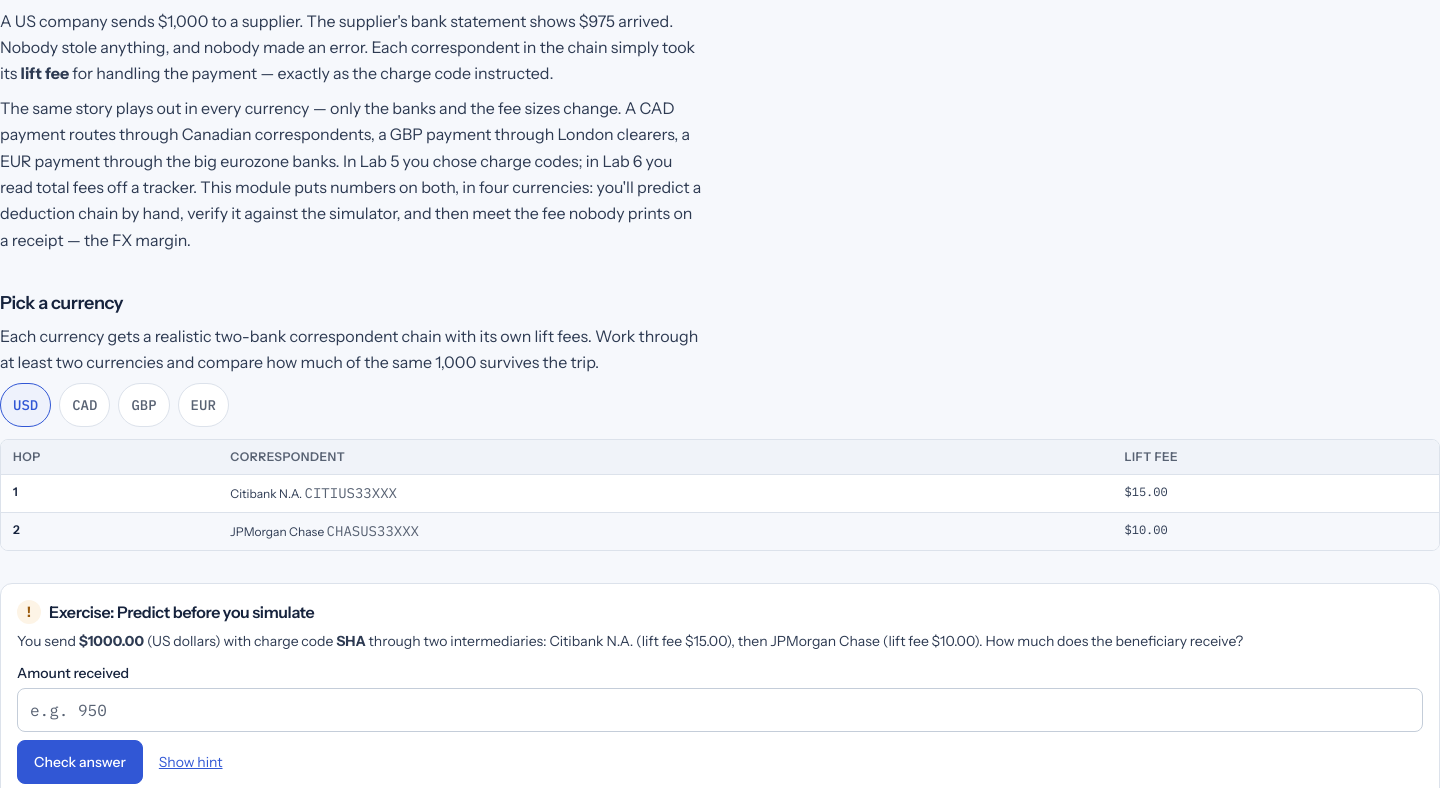
Scenario: FeesFxContent › rejects the USD answer once the currency is GBP
Click the button "GBP": [144, 406] box [118,384,170,428]
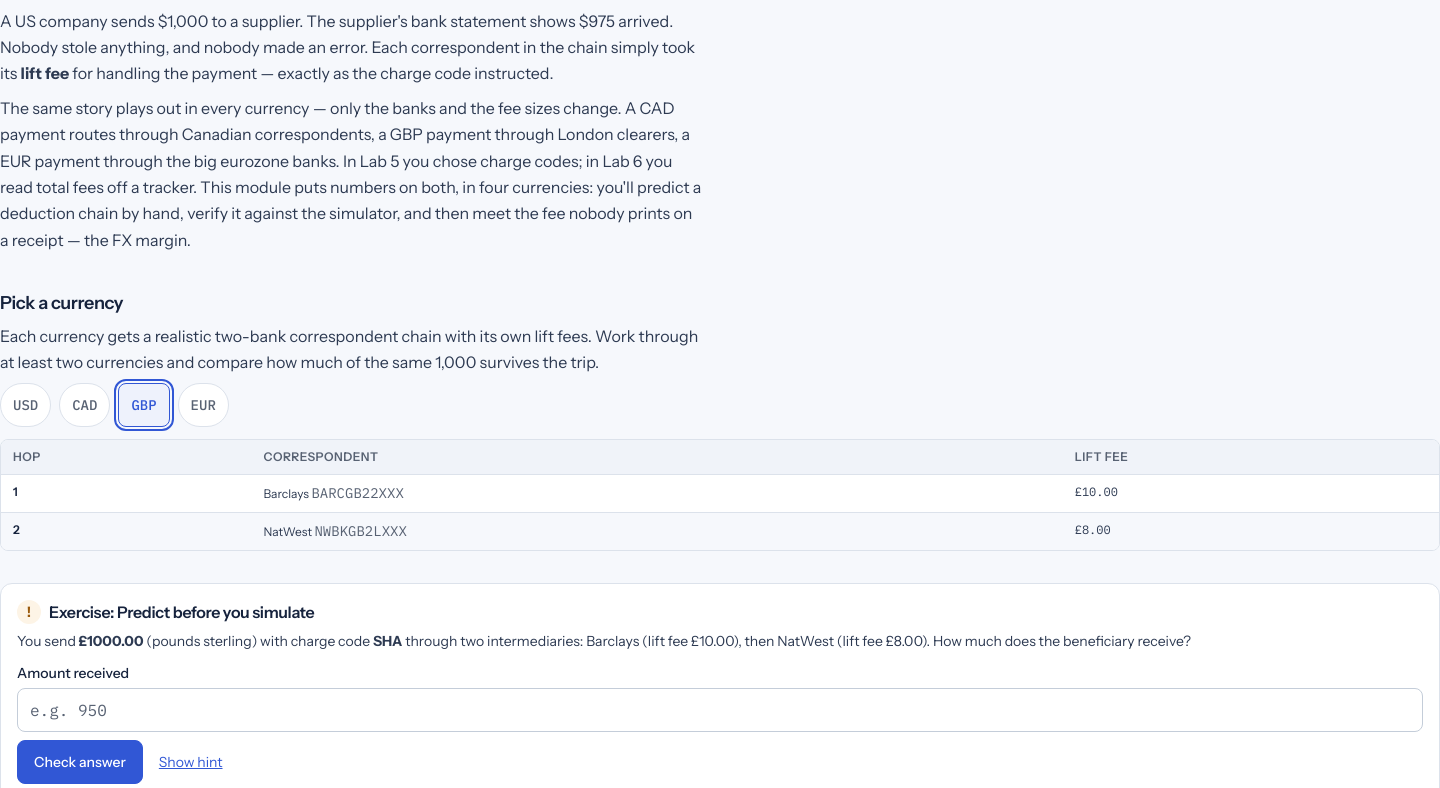
In the field labelled "Amount received": [720, 710] box [17,688,1423,732], type "975"
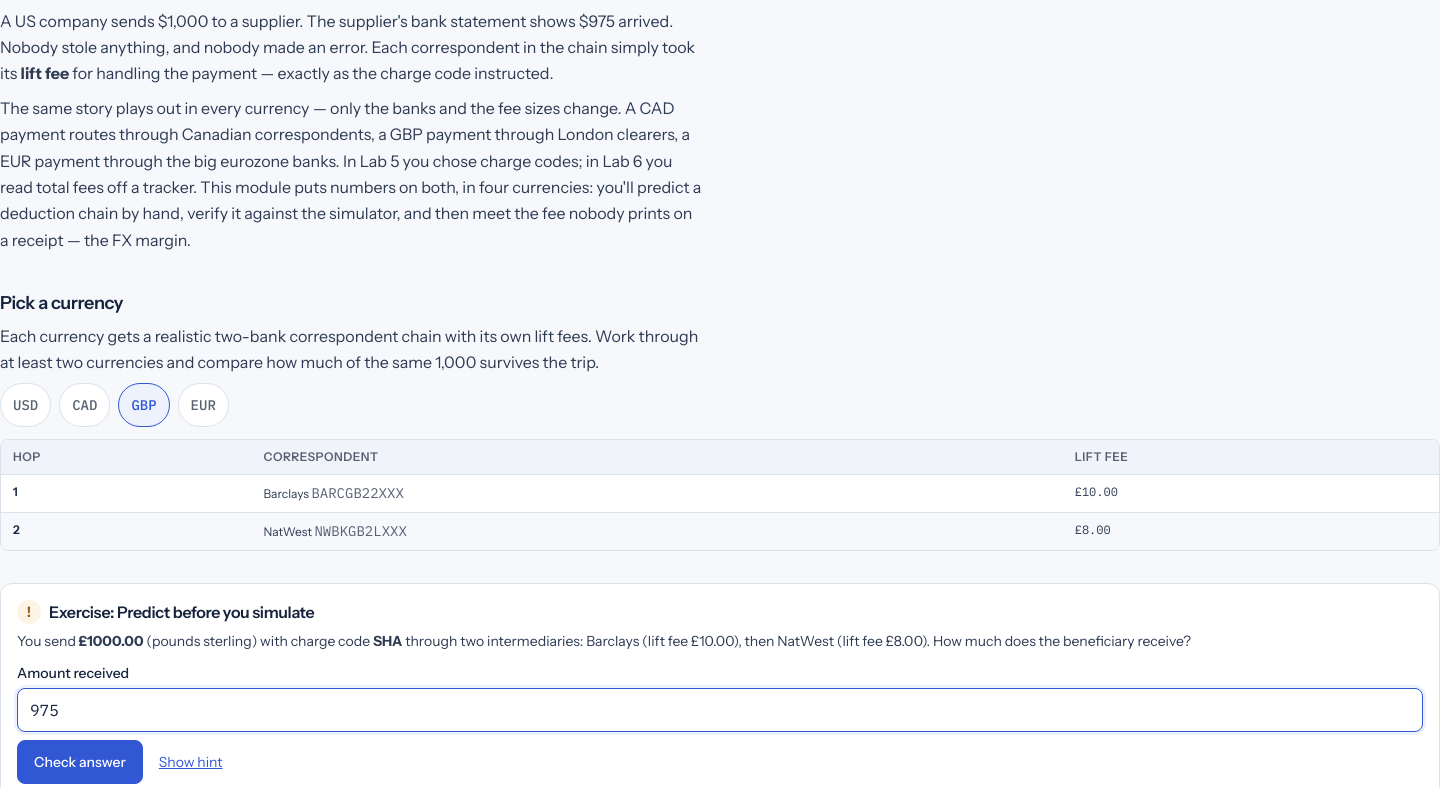
Click the button "Check answer": [80, 762] box [17,740,143,784]
(page scrolled)
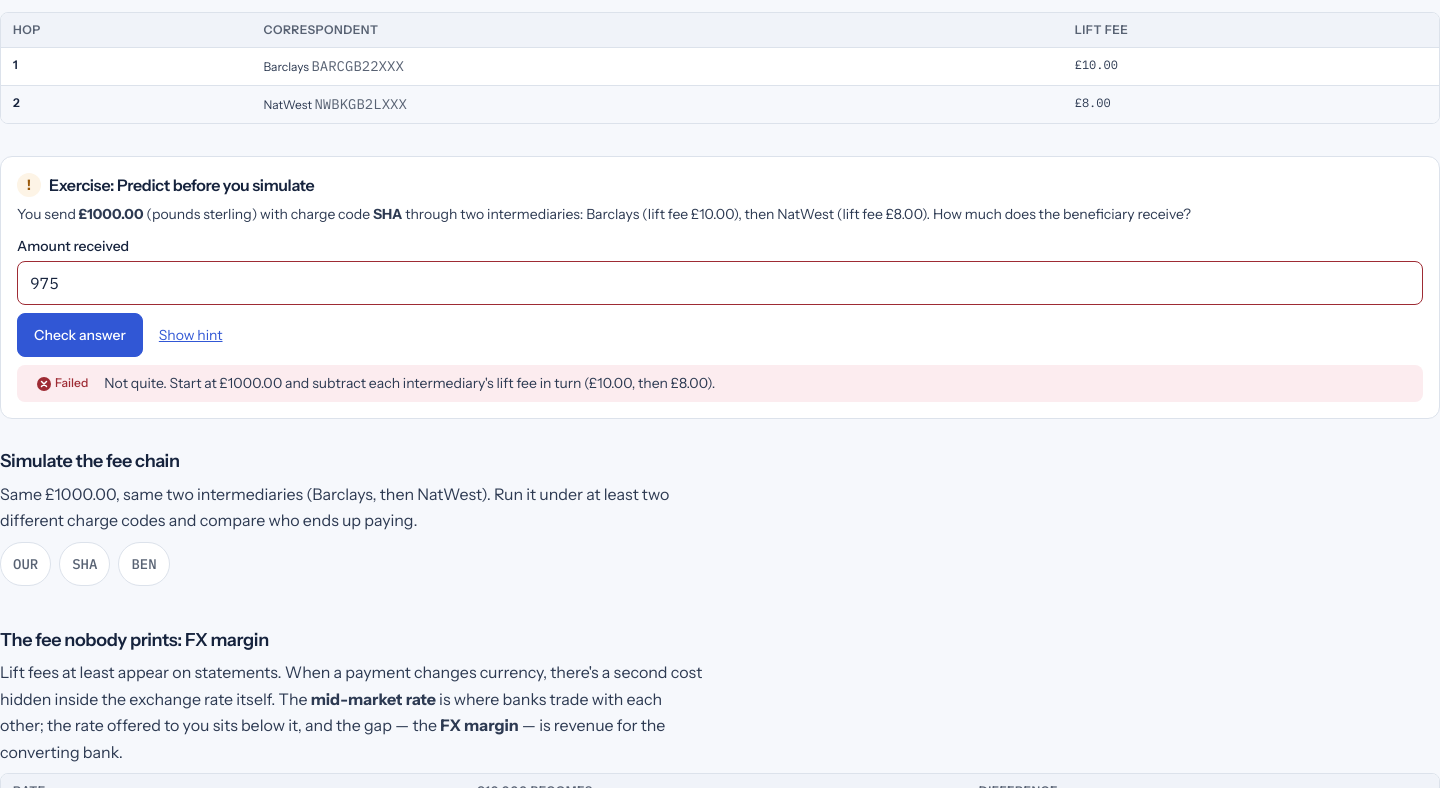
Expected: the text "Not quite" is shown, [104,374,715,392]
